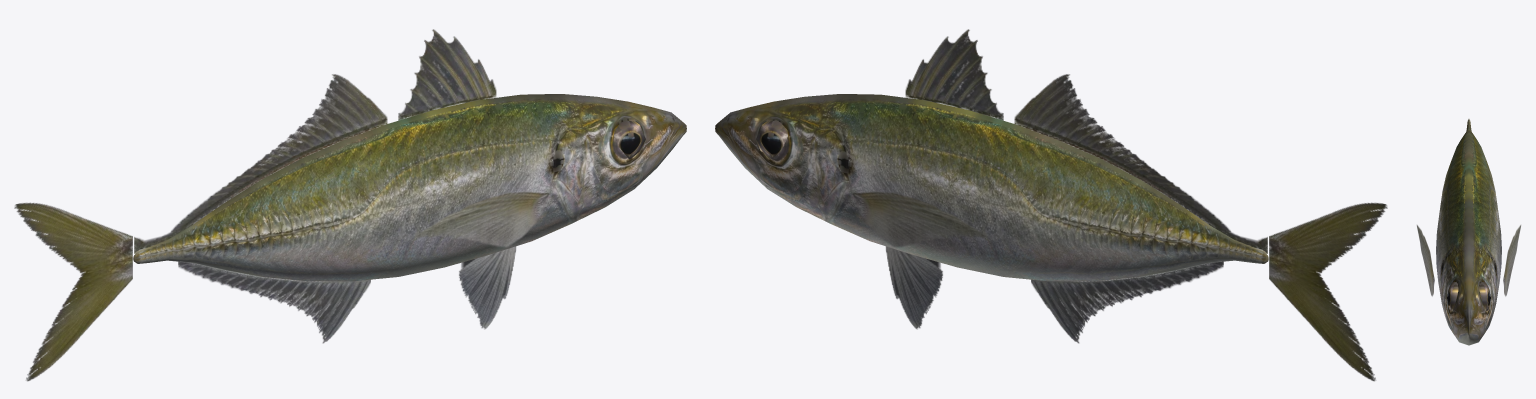
File: aji_lo.glb
The picture shows the model from 3 angles, left to right: view 1: azimuth 30°, elevation 25°; view 2: azimuth 150°, elevation 25°; view 3: azimuth 270°, elevation 25°; orthographic projection. The views are drawn at different scales.
Parts seen in each view (by area): view 1: aji; view 2: aji; view 3: aji.
Part boxes in pixels (bbox=[...]): aji: bbox=[14, 29, 686, 381]; aji: bbox=[715, 29, 1387, 381]; aji: bbox=[1417, 119, 1520, 345].
Bounding box in the file's own units: 0.2504 × 0.1112 × 0.0446.
1 material, 1 textured.
